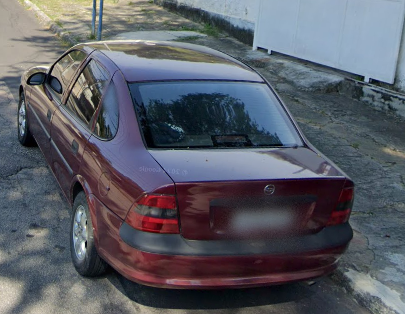car: (18, 39, 354, 288)
